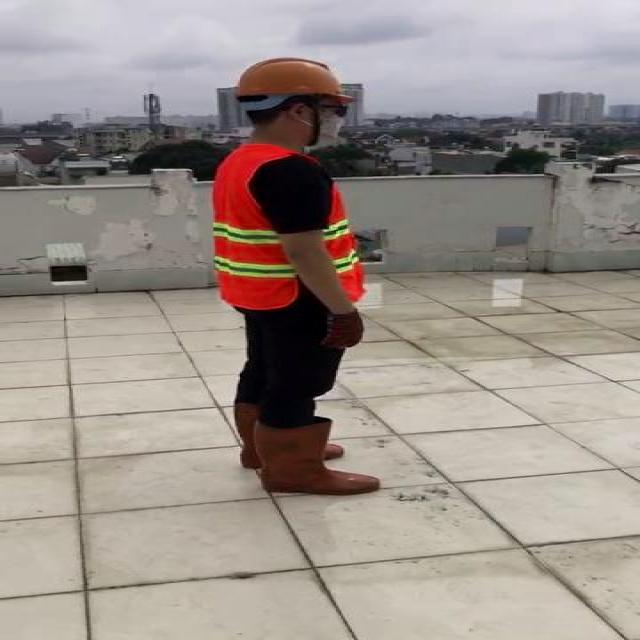boots: (256, 421, 379, 495), (233, 400, 339, 468)
hand_glove: (325, 312, 368, 349)
head_helmet: (234, 55, 360, 102)
person: (200, 47, 394, 504)
vest: (214, 144, 380, 309)
